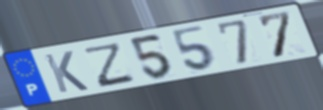5: (168, 23, 219, 73), (127, 31, 174, 82)
7: (257, 10, 296, 60), (214, 17, 252, 66)
K: (42, 50, 92, 95)
Z: (83, 40, 136, 89)
